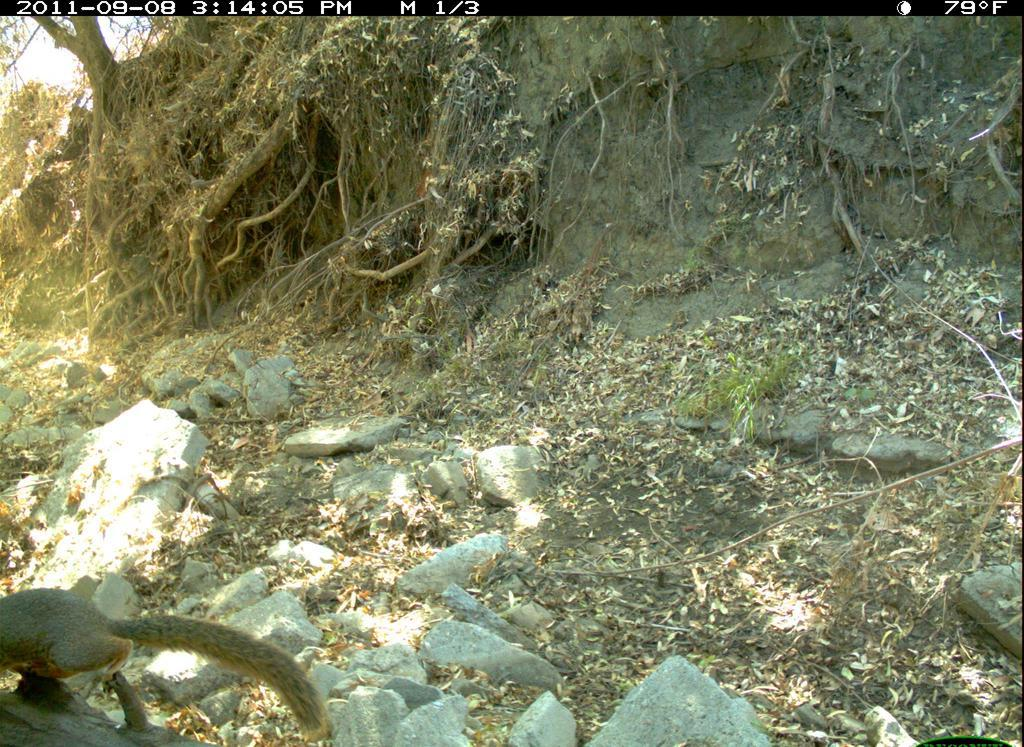squirrel: (2, 583, 333, 747)
